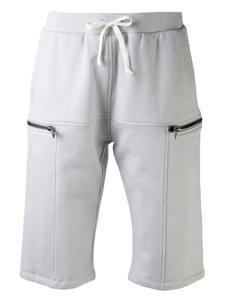C_W_pants: (13, 3, 217, 295)
